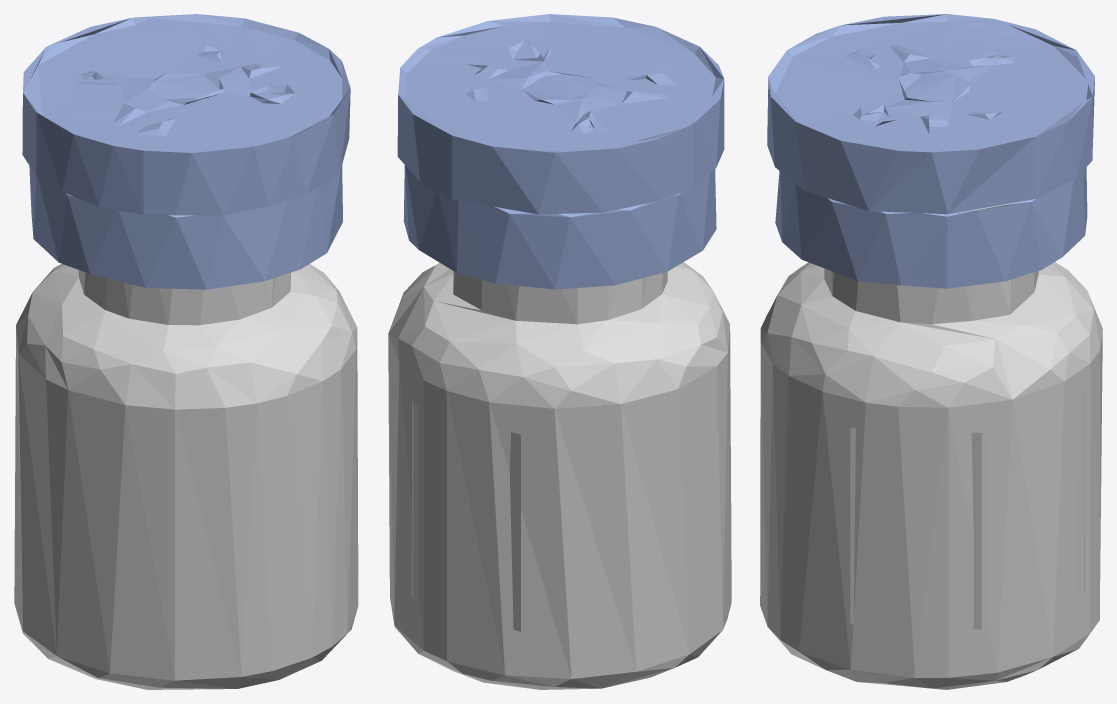
Rendered from bottle_laboratory_c01.glb.
The picture shows the model from 3 angles, left to right: view 1: azimuth 30°, elevation 25°; view 2: azimuth 150°, elevation 25°; view 3: azimuth 270°, elevation 25°; orthographic projection.
Parts seen in each view (by area): view 1: part1, part0; view 2: part1, part0, part2; view 3: part1, part0, part2.
Part boxes in pixels (<box>): part1: <box>14,264,358,689</box>; part0: <box>22,14,350,289</box>; part1: <box>388,206,731,689</box>; part0: <box>397,14,724,289</box>; part2: <box>411,399,520,631</box>; part1: <box>760,203,1102,689</box>; part0: <box>767,14,1094,288</box>; part2: <box>850,396,1084,629</box>.
Size of the model in its own units: 0.0286 by 0.0501 by 0.0286.
